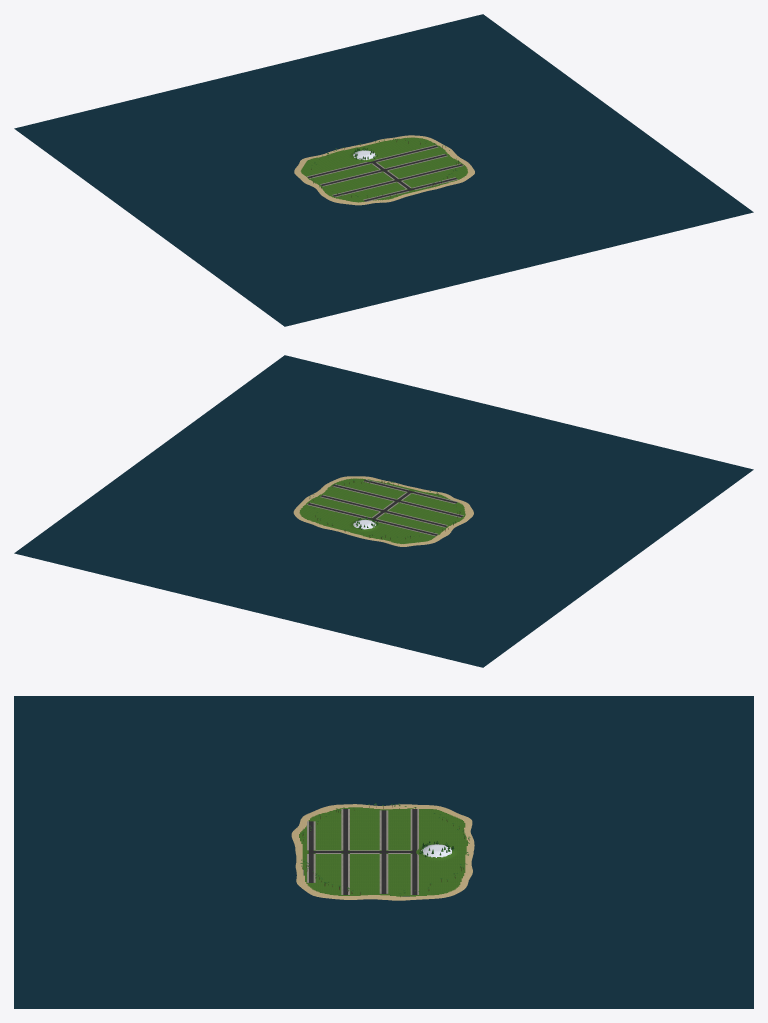
File: env.gltf
3 renders of one model, top to bottom at view 1: azimuth 30°, elevation 25°; view 2: azimuth 150°, elevation 25°; view 3: azimuth 270°, elevation 25°, orthographic. The views are drawn at different scales.
Parts seen in each view (by area): view 1: S_island_town; view 2: S_island_town; view 3: S_island_town.
Part boxes in pixels (left/top/right/bottom): S_island_town: left=14, top=14, right=753, bottom=326; S_island_town: left=14, top=355, right=753, bottom=667; S_island_town: left=14, top=696, right=753, bottom=1008.
Bounding box in the file's own units: 1200 × 19.62 × 1200.
11 materials, 7 textured.
